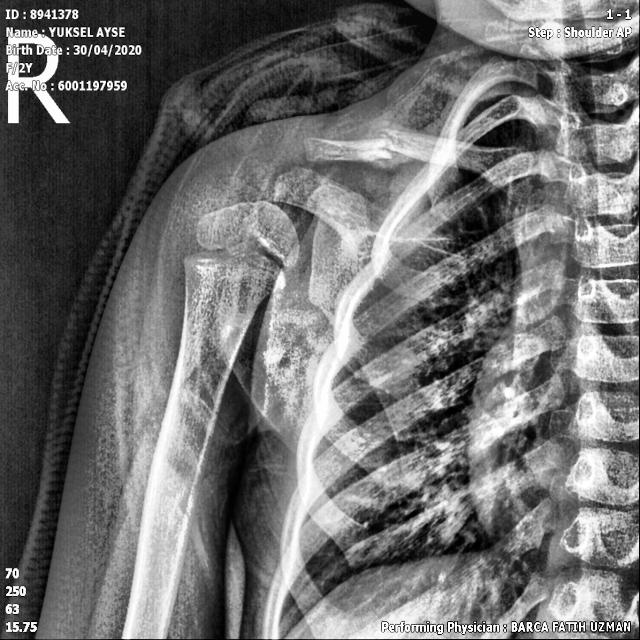Fracture: (349, 121, 418, 178)
